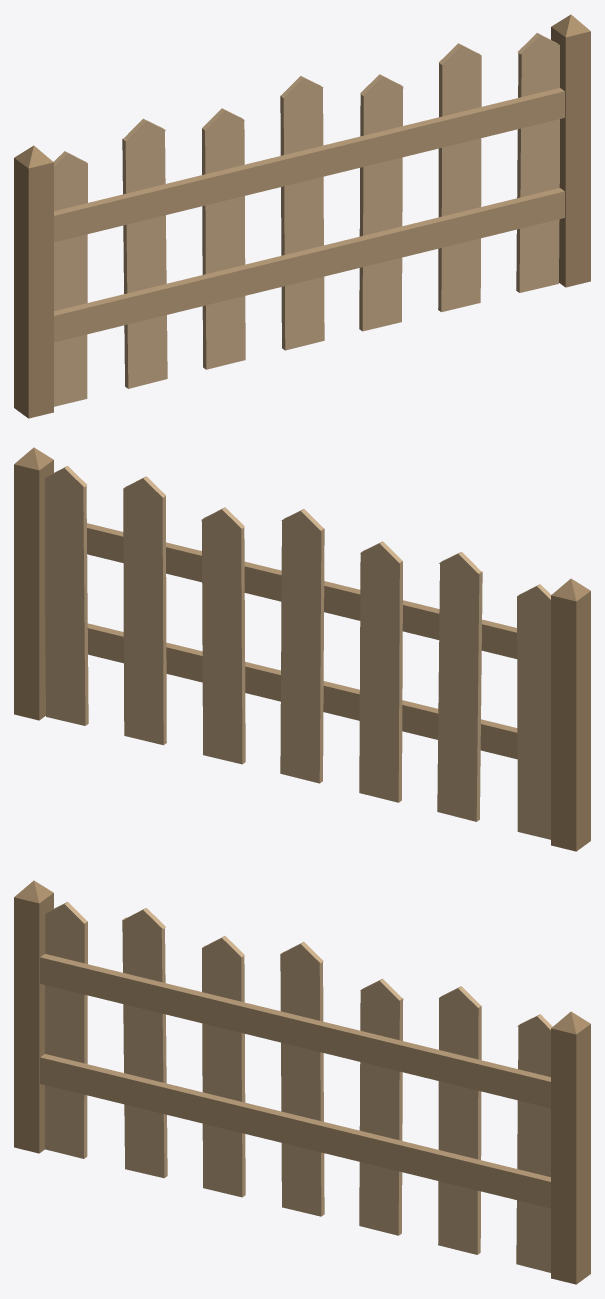
Rendered from th4_zaun_holz.glb.
3 renders of one model, top to bottom at view 1: azimuth 30°, elevation 25°; view 2: azimuth 150°, elevation 25°; view 3: azimuth 330°, elevation 25°, orthographic.
Parts seen in each view (by area): view 1: zaun_holz; view 2: zaun_holz; view 3: zaun_holz.
Boxes of the visible parts, box(x1,y1,x2,y2) form: zaun_holz: box(14, 14, 590, 418); zaun_holz: box(14, 447, 590, 851); zaun_holz: box(14, 880, 590, 1284).
Bounding box in the file's own units: 2 × 0.9108 × 0.09.
